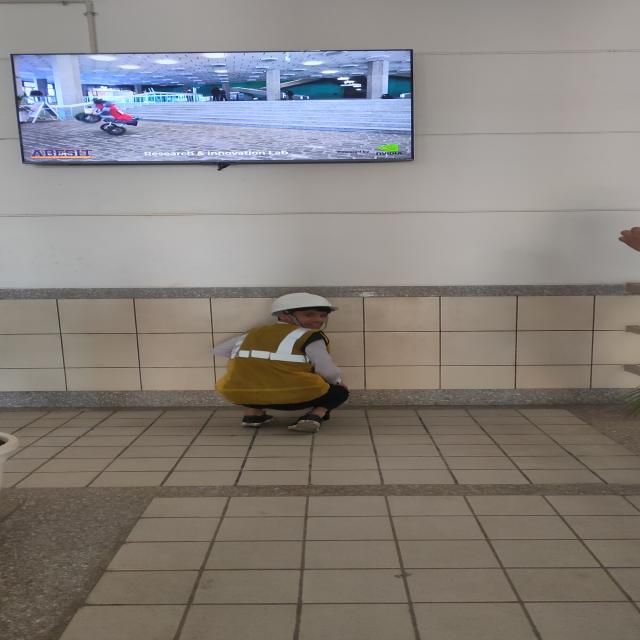safe: (215, 293, 347, 432)
